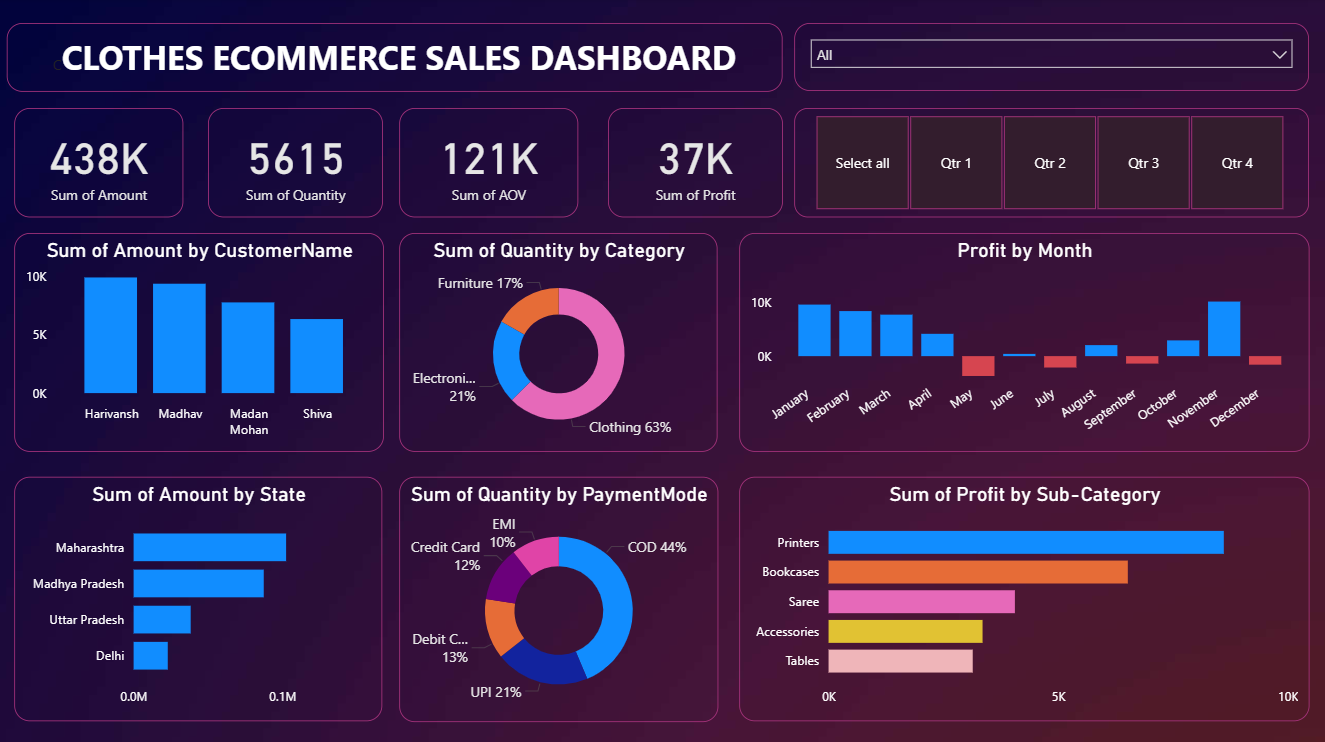

The page's visual inventory and layout, read from the dashboard file:
{"tool":"powerbi","page":{"name":"Page 1","canvas":[1280,720],"ordinal":0},"visuals":[{"type":"textbox","box":[8.4,24.1,749.2,66.4],"z":0},{"type":"columnChart","title":"Profit by Month","fields":{"Category":["Orders.Order Date.Variation.Date Hierarchy.Month"],"Y":["Details.Profit"]},"box":[714.9,226.4,550.3,211.3],"z":1000},{"type":"barChart","fields":{"Category":["Details.Sub-Category"],"Y":["Details.Profit"]},"box":[714.9,462.4,550.3,236],"z":2000},{"type":"donutChart","fields":{"Category":["Details.Category"],"Y":["Details.Quantity"]},"box":[387,226.4,307.4,211.3],"z":3000},{"type":"donutChart","fields":{"Y":["Details.Quantity"],"Category":["Details.PaymentMode"]},"box":[387.3,462.1,307.6,236.5],"z":4000},{"type":"card","fields":{"Values":["Details.Amount"]},"box":[15.1,105.7,163.3,105.7],"z":5000},{"type":"card","fields":{"Values":["Details.Profit"]},"box":[588.7,105.7,168.8,105.7],"z":6000},{"type":"card","fields":{"Values":["Details.Quantity"]},"box":[203.1,105.7,168.8,105.7],"z":7000},{"type":"card","fields":{"Values":["Details.AOV"]},"box":[387,105.7,172.9,105.7],"z":8000},{"type":"barChart","fields":{"Category":["Orders.State"],"Y":["Details.Amount"]},"box":[15.1,462.4,355.4,236],"z":9000},{"type":"columnChart","fields":{"Category":["Orders.CustomerName"],"Y":["Details.Amount"]},"box":[15.1,226.4,356.8,211.3],"z":10000},{"type":"slicer","fields":{"Values":["Orders.Order Date.Variation.Date Hierarchy.Quarter"]},"box":[768.4,105.7,496.7,105.7],"z":11000},{"type":"slicer","fields":{"Values":["Orders.State"]},"box":[768.4,24.7,496.7,65.9],"z":12000}]}

Visuals, with their boxes in screenshot pixels (x1, y1, x2, y2), scaled from the page's 1280x720 canvas onto the 1325x742 screenshot:
textbox: 9, 25, 784, 93
"Profit by Month" columnChart: 740, 233, 1310, 451
barChart - Details.Sub-Category x Details.Profit: 740, 477, 1310, 720
donutChart - Details.Category x Details.Quantity: 401, 233, 719, 451
donutChart - Details.Quantity x Details.PaymentMode: 401, 476, 719, 720
card - Details.Amount: 16, 109, 185, 218
card - Details.Profit: 609, 109, 784, 218
card - Details.Quantity: 210, 109, 385, 218
card - Details.AOV: 401, 109, 580, 218
barChart - Orders.State x Details.Amount: 16, 477, 384, 720
columnChart - Orders.CustomerName x Details.Amount: 16, 233, 385, 451
slicer - Orders.Order Date.Variation.Date Hierarchy.Quarter: 795, 109, 1310, 218
slicer - Orders.State: 795, 25, 1310, 93
